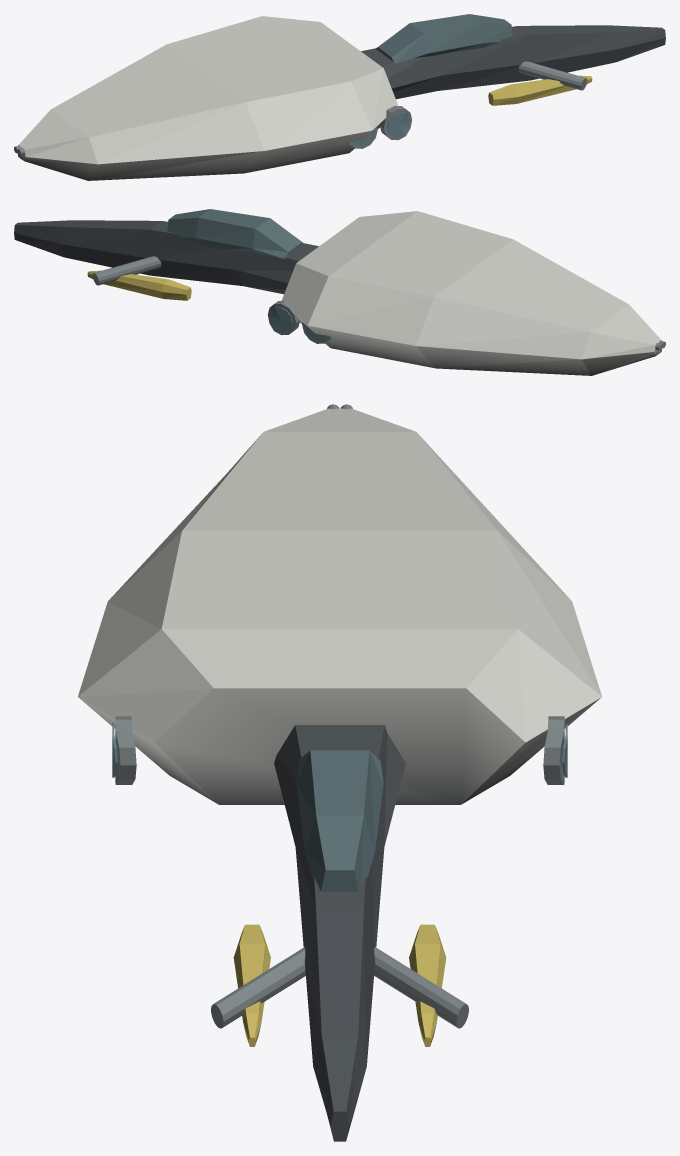
Rendered from opal_jet_white_off.glb.
3 renders of one model, top to bottom at view 1: azimuth 30°, elevation 25°; view 2: azimuth 150°, elevation 25°; view 3: azimuth 270°, elevation 25°, orthographic. The views are drawn at different scales.
Parts seen in each view (by area): view 1: rear_lower_hull_0, front_spar_1, cockpit_shell_2, folded_pods_5, outrigger_support_4, side_thruster_face_7, side_thruster_casing_6; view 2: rear_lower_hull_0, front_spar_1, cockpit_shell_2, folded_pods_5, outrigger_support_4, side_thruster_face_7, side_thruster_casing_6; view 3: rear_lower_hull_0, front_spar_1, cockpit_shell_2, outrigger_support_4, folded_pods_5, side_thruster_casing_6.
Boxes of the visible parts, x1,y1,x2,y2 form: rear_lower_hull_0: (17, 16, 398, 180); front_spar_1: (361, 25, 665, 99); cockpit_shell_2: (376, 14, 512, 63); folded_pods_5: (488, 75, 592, 105); outrigger_support_4: (518, 61, 586, 90); side_thruster_face_7: (353, 112, 410, 145); side_thruster_casing_6: (349, 106, 411, 148); rear_lower_hull_0: (281, 211, 662, 375); front_spar_1: (14, 220, 318, 294); cockpit_shell_2: (167, 209, 304, 258); folded_pods_5: (87, 270, 191, 300); outrigger_support_4: (93, 256, 161, 285); side_thruster_face_7: (269, 307, 326, 340); side_thruster_casing_6: (268, 301, 331, 343); rear_lower_hull_0: (78, 408, 601, 804); front_spar_1: (274, 725, 405, 1141); cockpit_shell_2: (296, 750, 383, 891); outrigger_support_4: (211, 947, 468, 1028); folded_pods_5: (233, 924, 446, 1046); side_thruster_casing_6: (115, 716, 564, 784).
Bounding box in the file's own units: 9.96 × 1.25 × 3.5.
